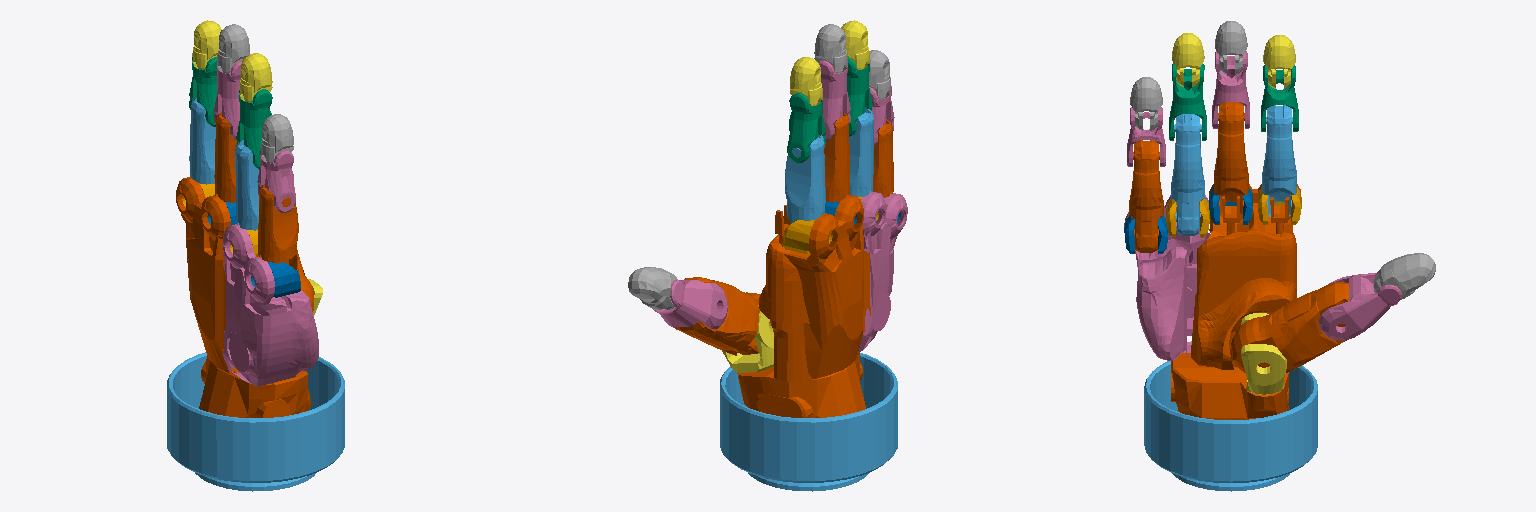
--- Render facts (derived) ---
Views: 3 orthographic renders of the robot side by side, from view 1: azimuth 30°, elevation 25°; view 2: azimuth 150°, elevation 25°; view 3: azimuth 270°, elevation 25°.
Model svh with 37 links and 36 joints (20 revolute, 16 fixed), rooted at base_link, posed all joints at 0.
Links seen in each view (by area): view 1: right_hand_base_link, right_hand_e1, right_hand_e2, right_hand_i, right_hand_l, right_hand_j, right_hand_k, right_hand_n, right_hand_m, right_hand_o, right_hand_q, right_hand_p (+4 smaller); view 2: right_hand_e1, right_hand_base_link, right_hand_e2, right_hand_a, right_hand_l, right_hand_b, right_hand_k, right_hand_j, right_hand_p, right_hand_c, right_hand_o, right_hand_z (+8 smaller); view 3: right_hand_e1, right_hand_base_link, right_hand_e2, right_hand_a, right_hand_j, right_hand_b, right_hand_i, right_hand_k, right_hand_l, right_hand_z, right_hand_c, right_hand_o (+11 smaller).
Boxes of the visible links, box(x1,y1,x2,y2) form: right_hand_base_link: box(167, 352, 344, 491); right_hand_e1: box(176, 177, 310, 417); right_hand_e2: box(222, 224, 318, 385); right_hand_i: box(258, 184, 299, 275); right_hand_l: box(189, 98, 215, 184); right_hand_j: box(235, 140, 258, 230); right_hand_k: box(214, 112, 236, 202); right_hand_n: box(236, 89, 272, 169); right_hand_m: box(257, 150, 295, 212); right_hand_o: box(214, 61, 241, 139); right_hand_q: box(261, 114, 293, 162); right_hand_p: box(189, 57, 217, 126); right_hand_e1: box(737, 195, 870, 417); right_hand_base_link: box(720, 353, 897, 491); right_hand_e2: box(858, 192, 907, 352); right_hand_a: box(675, 277, 760, 355); right_hand_l: box(785, 134, 825, 223); right_hand_b: box(653, 280, 727, 329); right_hand_k: box(824, 112, 849, 202); right_hand_j: box(849, 107, 873, 196); right_hand_p: box(787, 93, 825, 162); right_hand_c: box(628, 267, 677, 309); right_hand_o: box(818, 60, 850, 140); right_hand_z: box(722, 305, 773, 372); right_hand_e1: box(1171, 184, 1300, 419); right_hand_base_link: box(1144, 361, 1317, 491); right_hand_e2: box(1124, 195, 1209, 360); right_hand_a: box(1230, 282, 1349, 372); right_hand_j: box(1171, 114, 1204, 235); right_hand_b: box(1319, 270, 1401, 340); right_hand_i: box(1129, 140, 1163, 252); right_hand_k: box(1214, 102, 1248, 217); right_hand_l: box(1262, 105, 1296, 223); right_hand_z: box(1241, 313, 1286, 394); right_hand_c: box(1373, 253, 1435, 299); right_hand_o: box(1212, 51, 1249, 128).
Size in the robot's own frame: 0.0935 by 0.1609 by 0.2465 metres.
23 mesh visuals loaded from 23 distinct referenced files (23 OBJ).

robot.urdf — svh:
<?xml version="1.0" encoding="utf-8"?>
<robot name="svh">
  <link name="base_link"/>

  <joint name="root_joint" type="fixed">
    <parent link="base_link"/>
    <child link="right_hand_base_link"/>
    <origin xyz="0 0 0" rpy="0 0 -1.57"/>
  </joint>

  <link name="right_hand_base_link">
    <origin xyz="0 0 0" rpy="0 0 0"/>
    <visual>
      <origin xyz="0 0 -0.032"/>
      <geometry>
        <mesh filename="meshes/v2/base10.obj"/>
      </geometry>
    </visual>
    <collision>
      <origin xyz="0 0 -0.032"/>
      <geometry>
        <mesh filename="meshes/v2/base10.obj"/>
      </geometry>
    </collision>
    <inertial>
      <mass value="0.57743"/>
      <origin xyz="0.0 -2.3e-05 0.139371"/>
      <inertia ixx="0.04725" ixy="-0.0" ixz="-0.0" iyy="0.04717" iyz="0.0" izz="0.07606" />
    </inertial>
  </link>
  
  <link name="right_hand_d">
    <inertial>
      <mass value="0.01" />
      <origin xyz="0 0 0" />
      <inertia ixx="0.001" ixy="0.0" ixz="0.0" iyy="0.001" iyz="0.0" izz="0.001" />
    </inertial>
  </link>

  <link name="right_hand_h">
    <inertial>
      <mass value="0.01" />
      <origin xyz="0 0 0" />
      <inertia ixx="0.001" ixy="0.0" ixz="0.0" iyy="0.001" iyz="0.0" izz="0.001" />
    </inertial>
  </link>

  <link name="right_hand_d2">
    <inertial>
      <mass value="0.01" />
      <origin xyz="0 0 0" />
      <inertia ixx="0.001" ixy="0.0" ixz="0.0" iyy="0.001" iyz="0.0" izz="0.001" />
    </inertial>
  </link>

  <!-- LENGTH NOT FOUND IN DATASHEET! GUESSED!!! -->
  <link name="right_hand_e1">
    <visual>
      <origin rpy="0 0 0" xyz="0 0.01313 0"/>
      <geometry>
        <mesh filename="meshes/v2/h10.obj" scale="1 1 1"/>
      </geometry>
    </visual>
    <collision>
      <origin rpy="0 0 0" xyz="0 0.01313 0"/>
      <geometry>
        <mesh filename="meshes/v2/h10.obj" scale="1 1 1"/>
      </geometry>
    </collision>
    <inertial>
      <mass value="0.01" />
      <origin xyz="0 0 0" />
      <inertia ixx="0.001" ixy="0.0" ixz="0.0" iyy="0.001" iyz="0.0" izz="0.001" />
    </inertial>
  </link>

  <!-- LENGTH NOT FOUND IN DATASHEET! GUESSED!!! -->
  <link name="right_hand_e2">
    <visual>
      <origin xyz="-0.0007 0 -0.01002" />
      <geometry>
        <mesh filename="meshes/v2/h11.obj" scale="1 1 1"/>
      </geometry>
    </visual>
    <collision>
      <origin xyz="-0.0007 0 -0.01002" />
      <geometry>
        <mesh filename="meshes/v2/h11.obj" scale="1 1 1"/>
      </geometry>
    </collision>
    <inertial>
      <mass value="0.46184"/>
      <origin xyz="0.145071 -0.037868 0.323449"/>
      <inertia ixx="0.01908" ixy="-0.00121" ixz="-0.00011" iyy="0.01704" iyz="0.00277" izz="0.00862"/>
    </inertial>
  </link>

  <link name="right_hand_e3">
    <inertial>
      <mass value="0.01" />
      <origin xyz="0 0 0" />
      <inertia ixx="0.001" ixy="0.0" ixz="0.0" iyy="0.001" iyz="0.0" izz="0.001" />
    </inertial>
  </link>

  <link name="right_hand_e">
  </link>

  <link name="right_hand_e4">
    <inertial>
      <mass value="0.01" />
      <origin xyz="0 0 0" />
      <inertia ixx="0.001" ixy="0.0" ixz="0.0" iyy="0.001" iyz="0.0" izz="0.001" />
    </inertial>
  </link>

    <link name="right_hand_e5">
    <inertial>
      <mass value="0.01" />
      <origin xyz="0 0 0" />
      <inertia ixx="0.001" ixy="0.0" ixz="0.0" iyy="0.001" iyz="0.0" izz="0.001" />
    </inertial>
  </link>

  <!-- THUMB LINKS -->
  <link name="right_hand_z">
    <visual>
      <origin xyz="0 0 0.02442"/>
      <geometry>
        <mesh filename="meshes/v2/d10.obj" scale="1 1 1"/>
      </geometry>
    </visual>
    <collision>
      <origin xyz="0 0 0.02442"/>
      <geometry>
        <mesh filename="meshes/v2/d10.obj" scale="1 1 1"/>
      </geometry>
    </collision>
    <inertial>
      <mass value="0.0739"/>
      <origin xyz="0.0 0.002024 0.178636"/>
      <inertia ixx="0.00103" ixy="-0.0" ixz="-0.0" iyy="0.00165" iyz="4e-05" izz="0.00111"/>
    </inertial>
  </link>

  <link name="right_hand_virtual_a">
    <inertial>
      <mass value="0.01" />
      <origin xyz="0 0 0" />
      <inertia ixx="0.001" ixy="0.0" ixz="0.0" iyy="0.001" iyz="0.0" izz="0.001" />
    </inertial>
  </link>

  <link name="right_hand_a">
    <visual>
      <geometry>
        <mesh filename="meshes/v2/d11.obj" scale="1 1 1"/>
      </geometry>
    </visual>
    <collision>
      <geometry>
        <mesh filename="meshes/v2/d11.obj" scale="1 1 1"/>
      </geometry>
    </collision>
    <inertial>
      <mass value="0.41222"/>
      <origin xyz="0.240205 0.010733 0.00019"/>
      <inertia ixx="0.00413" ixy="0.00073" ixz="-0.0" iyy="0.01679" iyz="0.0" izz="0.01796"/>
    </inertial>
  </link>

  <link name="right_hand_b">
    <visual>
      <geometry>
        <mesh filename="meshes/v2/d12.obj" scale="1 1 1"/>
      </geometry>
    </visual>
    <collision>
      <geometry>
        <mesh filename="meshes/v2/d12.obj" scale="1 1 1"/>
      </geometry>
    </collision>
    <inertial>
      <mass value="0.08224"/>
      <origin xyz="0.123157 -0.008382 -2.7e-05"/>
      <inertia ixx="0.00089" ixy="5e-05" ixz="0.0" iyy="0.00139" iyz="0.0" izz="0.00103"/>
    </inertial>
  </link>

  <link name="right_hand_c">
    <visual>
      <geometry>
        <mesh filename="meshes/v2/d13.obj" scale="1 1 1"/>
      </geometry>
    </visual>
    <collision>
      <geometry>
        <mesh filename="meshes/v2/d13.obj" scale="1 1 1"/>
      </geometry>
    </collision>
    <inertial>
      <mass value="0.06198"/>
      <origin xyz="0.113729 0.01094 0.0"/>
      <inertia ixx="0.00025" ixy="-0.0" ixz="-0.0" iyy="0.00051" iyz="0.0" izz="0.00052"/>
    </inertial>
  </link>

  <!-- INDEX FINGER LINKS -->
  <link name="right_hand_virtual_l">
    <visual>
      <origin xyz="0 0 0.01321"/>
      <geometry>
        <mesh filename="meshes/v2/f10.obj"/>
      </geometry>
    </visual>
    <collision>
      <origin xyz="0 0 0.01321"/>
      <geometry>
        <mesh filename="meshes/v2/f10.obj"/>
      </geometry>
    </collision>

  <!-- <inertial>
    <mass value="0.02383"/>
    <origin xyz="0.003634 0.000206 -0.09885"/>
    <inertia ixx="0.00021" ixy="-0.0" ixz="-1e-05" iyy="0.00011" iyz="-0.0" izz="0.00019"/>
  </inertial>   -->
  <!-- Initial values make the inertia mass matrix not invertible as below floating point precision 
  for determinant, so we assume a default regularized version... -->
  <inertial>
    <mass value="0.02383" />
      <origin xyz="0.003634 0.000206 -0.09885"/>
    <inertia ixx="0.001" ixy="0.0" ixz="0.0" iyy="0.001" iyz="0.0" izz="0.001" />
  </inertial>
  </link>

  <link name="right_hand_l">
    <visual>
      <geometry>
        <mesh filename="meshes/v2/f11.obj"/>
      </geometry>
    </visual>
    <collision>
      <geometry>
        <mesh filename="meshes/v2/f11.obj"/>
      </geometry>
    </collision>
    <inertial>
      <mass value="0.13003"/>
      <origin xyz="0.261673 0.003521 0.0"/>
      <inertia ixx="0.00051" ixy="-3e-05" ixz="0.0" iyy="0.00335" iyz="-0.0" izz="0.00344"/>
    </inertial>
  </link>

  <link name="right_hand_p">
    <visual>
      <geometry>
        <mesh filename="meshes/v2/f12.obj"/>
      </geometry>
    </visual>
    <collision>
      <geometry>
        <mesh filename="meshes/v2/f12.obj"/>
      </geometry>
    </collision>
    <inertial>
      <mass value="0.03264"/>
      <origin xyz="0.1384 -0.004609 0.0"/>
      <inertia ixx="0.00016" ixy="-0.0" ixz="0.0" iyy="0.00031" iyz="-0.0" izz="0.00024"/>
    </inertial>    
  </link>

  <link name="right_hand_t">
    <visual>
      <geometry>
        <mesh filename="meshes/v2/f13.obj"/>
      </geometry>
    </visual>
    <collision>
      <geometry>
        <mesh filename="meshes/v2/f13.obj"/>
      </geometry>
    </collision>
    <!-- <inertial>
      <mass value="0.0324"/>
      <origin xyz="0.102924 0.000592 0.0"/>
      <inertia ixx="9e-05" ixy="-1e-05" ixz="-0.0" iyy="0.00017" iyz="0.0" izz="0.00017"/>
    </inertial>
  </inertial>  -->
  <!-- Initial values make the inertia mass matrix not invertible as below floating point precision 
  for determinant, so we assume a default regularized version... -->
  <inertial>
    <mass value="0.0324" />
    <origin xyz="0.102924 0.000592 0.0"/>
    <inertia ixx="0.001" ixy="0.0" ixz="0.0" iyy="0.001" iyz="0.0" izz="0.001" />
  </inertial>    
  </link>

  <!-- MIDDLE FINGER LINKS -->
  <link name="right_hand_virtual_k">
    <visual>
      <origin xyz="0 0 0.01321"/>
      <geometry>
        <mesh filename="meshes/v2/f20.obj"/>
      </geometry>
    </visual>
    <collision>
      <origin xyz="0 0 0.01321"/>
      <geometry>
        <mesh filename="meshes/v2/f20.obj"/>
      </geometry>
    </collision>    
    <!-- <inertial>
      <mass value="0.02377"/>
      <origin xyz="0.003357 -8e-06 -0.099643"/>
      <inertia ixx="0.00021" ixy="-0.0" ixz="-1e-05" iyy="0.00011" iyz="0.0" izz="0.00019"/>
    </inertial> -->
    <!-- Initial values make the inertia mass matrix not invertible as below floating point precision 
    for determinant, so we assume a default regularized version... -->
    <inertial>
      <mass value="0.02377" />
      <origin xyz="0.003357 -8e-06 -0.099643"/>
      <inertia ixx="0.001" ixy="0.0" ixz="0.0" iyy="0.001" iyz="0.0" izz="0.001" />
    </inertial>        
  </link>

  <link name="right_hand_k">
    <visual>
      <geometry>
        <mesh filename="meshes/v2/f21.obj"/>
      </geometry>
    </visual>
    <collision>
      <geometry>
        <mesh filename="meshes/v2/f21.obj"/>
      </geometry>
    </collision>
    <inertial>
      <mass value="0.13474"/>
      <origin xyz="0.271122 0.00413 0.0"/>
      <inertia ixx="0.00052" ixy="-3e-05" ixz="-0.0" iyy="0.0037" iyz="-0.0" izz="0.0038"/>
    </inertial>
  </link>

  <link name="right_hand_o">
    <visual>
      <geometry>
        <mesh filename="meshes/v2/f22.obj"/>
      </geometry>
    </visual>
    <collision>
      <geometry>
        <mesh filename="meshes/v2/f22.obj"/>
      </geometry>
    </collision>    
    <inertial>
      <mass value="0.0422"/>
      <origin xyz="0.16683 -0.003774 0.0"/>
      <inertia ixx="0.0002" ixy="0.0" ixz="-0.0" iyy="0.00047" iyz="0.0" izz="0.0004"/>
    </inertial>   
  </link>

  <link name="right_hand_s">
    <visual>
      <geometry>
        <mesh filename="meshes/v2/f23.obj"/>
      </geometry>
    </visual>
    <collision>
      <geometry>
        <mesh filename="meshes/v2/f23.obj"/>
      </geometry>
    </collision>    
    <!-- <inertial>
      <mass value="0.03239"/>
      <origin xyz="0.102794 0.00042 0.0"/>
      <inertia ixx="9e-05" ixy="-1e-05" ixz="0.0" iyy="0.00017" iyz="0.0" izz="0.00017"/>
    </inertial>  -->
    <!-- Initial values make the inertia mass matrix not invertible as below floating point precision 
    for determinant, so we assume a default regularized version... -->
    <inertial>
      <mass value="0.03239" />
      <origin xyz="0.102794 0.00042 0.0"/>
      <inertia ixx="0.001" ixy="0.0" ixz="0.0" iyy="0.001" iyz="0.0" izz="0.001" />
    </inertial>      
  </link>

  <!-- RING FINGER LINKS -->
  <link name="right_hand_virtual_j">
    <visual>
      <origin xyz="0 0 -0.01321"/>
      <geometry>
        <mesh filename="meshes/v2/f30.obj"/>
      </geometry>
    </visual>
    <collision>
      <origin xyz="0 0 -0.01321"/>
      <geometry>
        <mesh filename="meshes/v2/f30.obj"/>
      </geometry>
    </collision>    
    <!-- <inertial>
      <mass value="0.02377"/>
      <origin xyz="0.003805 0.000386 0.100079"/>
      <inertia ixx="0.00021" ixy="0.0" ixz="1e-05" iyy="0.00011" iyz="-0.0" izz="0.00019"/>
    </inertial> -->
    <!-- Initial values make the inertia mass matrix not invertible as below floating point precision 
    for determinant, so we assume a default regularized version... -->
    <inertial>
      <mass value="0.02377" />
      <origin xyz="0.003805 0.000386 0.100079"/>
      <inertia ixx="0.001" ixy="0.0" ixz="0.0" iyy="0.001" iyz="0.0" izz="0.001" />
    </inertial>         
  </link>

  <link name="right_hand_j">
    <visual>
      <geometry>
        <mesh filename="meshes/v2/f31.obj"/>
      </geometry>
    </visual>
    <collision>
      <geometry>
        <mesh filename="meshes/v2/f31.obj"/>
      </geometry>
    </collision>    
    <inertial>
      <mass value="0.1377"/>
      <origin xyz="0.258283 -0.00154 0.0"/>
      <inertia ixx="0.00055" ixy="0.00018" ixz="-0.0" iyy="0.00411" iyz="0.0" izz="0.00426"/>
    </inertial>    
  </link>

  <link name="right_hand_n">
    <visual>
      <geometry>
        <mesh filename="meshes/v2/f32.obj"/>
      </geometry>
    </visual>
    <collision>
      <geometry>
        <mesh filename="meshes/v2/f32.obj"/>
      </geometry>
    </collision>
    <inertial>
      <mass value="0.04207"/>
      <origin xyz="0.166851 -0.00362 0.0"/>
      <inertia ixx="0.00019" ixy="0.0" ixz="-0.0" iyy="0.00047" iyz="0.0" izz="0.0004"/>
    </inertial>
  </link>

  <link name="right_hand_r">
    <visual>
      <geometry>
        <mesh filename="meshes/v2/f33.obj"/>
      </geometry>
    </visual>
    <collision>
      <geometry>
        <mesh filename="meshes/v2/f33.obj"/>
      </geometry>
    </collision>
    <!-- <inertial>
      <mass value="0.03229"/>
      <origin xyz="0.102676 0.000301 0.0"/>
      <inertia ixx="9e-05" ixy="-1e-05" ixz="0.0" iyy="0.00017" iyz="-0.0" izz="0.00017"/>
    </inertial> -->
    <!-- Initial values make the inertia mass matrix not invertible as below floating point precision 
    for determinant, so we assume a default regularized version... -->
    <inertial>
      <mass value="0.03229"/>
      <origin xyz="0.102676 0.000301 0.0"/>
      <inertia ixx="0.001" ixy="0.0" ixz="0.0" iyy="0.001" iyz="0.0" izz="0.001" />
    </inertial>    
  </link>

  <!-- LITTLE FINGER LINKS -->
  <link name="right_hand_virtual_i">
    <visual>
      <origin xyz="0 0 -0.01321"/>
      <geometry>
        <mesh filename="meshes/v2/f40.obj"/>
      </geometry>
    </visual>
    <collision>
      <origin xyz="0 0 -0.01321"/>
      <geometry>
        <mesh filename="meshes/v2/f40.obj"/>
      </geometry>
    </collision>
    <!-- <inertial>
      <mass value="0.02377"/>
      <origin xyz="0.003653 4.4e-05 0.100085"/>
      <inertia ixx="0.00021" ixy="0.0" ixz="1e-05" iyy="0.00011" iyz="-0.0" izz="0.00019"/>
    </inertial> -->
    <!-- Initial values make the inertia mass matrix not invertible as below floating point precision 
    for determinant, so we assume a default regularized version... -->
    <inertial>
      <mass value="0.02377" />
      <origin xyz="0.003653 4.4e-05 0.100085"/>
      <inertia ixx="0.001" ixy="0.0" ixz="0.0" iyy="0.001" iyz="0.0" izz="0.001" />
    </inertial>
  </link>

  <link name="right_hand_i">
    <visual>
      <geometry>
        <mesh filename="meshes/v2/f41.obj"/>
      </geometry>
    </visual>
    <collision>
      <geometry>
        <mesh filename="meshes/v2/f41.obj"/>
      </geometry>
    </collision>
    <inertial>
      <mass value="0.12544"/>
      <origin xyz="0.232293 0.00622 0.0"/>
      <inertia ixx="0.00049" ixy="6e-05" ixz="-0.0" iyy="0.00316" iyz="0.0" izz="0.00328"/>
    </inertial>    
  </link>

  <link name="right_hand_m">
    <visual>
      <geometry>
        <mesh filename="meshes/v2/f42.obj"/>
      </geometry>
    </visual>
    <collision>
      <geometry>
        <mesh filename="meshes/v2/f42.obj"/>
      </geometry>
    </collision>
    <!-- <inertial>
      <mass value="0.02488"/>
      <origin xyz="0.119665 -0.009328 0.0"/>
      <inertia ixx="0.00013" ixy="-0.0" ixz="-0.0" iyy="0.00023" iyz="0.0" izz="0.00016"/>
    </inertial> -->
    <!-- Initial values make the inertia mass matrix not invertible as below floating point precision 
    for determinant, so we assume a default regularized version... -->
    <inertial>
      <mass value="0.02488" />
      <origin xyz="0.119665 -0.009328 0.0"/>
      <inertia ixx="0.001" ixy="0.0" ixz="0.0" iyy="0.001" iyz="0.0" izz="0.001" />
    </inertial>    
  </link>

  <link name="right_hand_q">
    <visual>
      <geometry>
        <mesh filename="meshes/v2/f43.obj"/>
      </geometry>
    </visual>
    <collision>
      <geometry>
        <mesh filename="meshes/v2/f43.obj"/>
      </geometry>
    </collision>
    <!-- <inertial>
      <mass value="0.03234"/>
      <origin xyz="0.102896 0.000307 0.0"/>
      <inertia ixx="9e-05" ixy="-1e-05" ixz="-0.0" iyy="0.00017" iyz="0.0" izz="0.00017"/>
    </inertial> -->
    <!-- Initial values make the inertia mass matrix not invertible as below floating point precision 
    for determinant, so we assume a default regularized version... -->
    <inertial>
      <mass value="0.03234" />
      <origin xyz="0.102896 0.000307 0.0"/>
      <inertia ixx="0.001" ixy="0.0" ixz="0.0" iyy="0.001" iyz="0.0" izz="0.001" />
    </inertial>        
  </link>

  <joint name="right_hand_Thumb_Flexion" type="revolute">
    <parent link="right_hand_virtual_a"/>
    <child link="right_hand_a"/>
    <limit effort="1000.0" lower="0.0" upper="0.9704" velocity="1"/>
    <origin xyz="0 0 0" rpy="0 0 -0.9704" />
    <axis xyz="0 0 1"/>
  </joint>

  <joint name="right_hand_Thumb_Helper" type="fixed">
    <parent link="right_hand_z" />
    <child link="right_hand_virtual_a" />
    <origin xyz="0 0 0.04596" rpy="0 -1.5707 3.1416" />
  </joint>

  <!-- BASE_LINE JOINTS -->
  <joint name="right_hand_Thumb_Opposition" type="revolute">
    <parent link="right_hand_e1"/>
    <child link="right_hand_z"/>
    <limit effort="1000.0" lower="0.0" upper="0.9879" velocity="1"/>
    <origin xyz="-0.01690 0.02626 0" rpy="0 0.2618 1.571" />
    <axis xyz="0 0 -1"/>
  </joint>

  <!-- JOINT NOT FOR BASE_LINE. BUT WRITTEN DOWN HERE FOR BETTER UX -->
  
  <joint name="right_hand_f1" type="fixed">
    <parent link="right_hand_e1" />
    <child link="right_hand_d" />
    <origin xyz="0 0 0" rpy="0 0 0" />
  </joint>

  <joint name="right_hand_f2" type="fixed">
    <parent link="right_hand_d" />
    <child link="right_hand_h" />
    <origin xyz="0 0 0" rpy="0 0 0" />
  </joint>

  <joint name="right_hand_f3" type="fixed">
    <parent link="right_hand_h" />
    <child link="right_hand_d2" />
    <origin xyz="0 0 0" rpy="0 0 0" />
  </joint>

  <joint name="right_hand_f4" type="fixed">
    <parent link="right_hand_base_link"/>
    <child link="right_hand_e1"/>
    <origin xyz="0 -0.01313 0" rpy="0 0 0" />
  </joint>

  <joint name="right_hand_j5" type="revolute">
    <parent link="right_hand_e1"/>
    <child link="right_hand_e2"/>
    <limit effort="1000.0" lower="0.0" upper="0.98786" velocity="1"/>
    <origin xyz="0.0184 0.006 0.0375" rpy="0 0 0" />
    <axis xyz="0 0 1"/>
    <mimic joint="right_hand_Thumb_Opposition" multiplier="1" offset="0"/>
  </joint>

  <joint name="right_hand_f5" type="fixed">
    <parent link="right_hand_e2" />
    <child link="right_hand_e3" />
    <origin xyz="0 -0.0060 0" rpy="0 0 0" />
  </joint>

  <joint name="right_hand_f6" type="fixed">
    <parent link="right_hand_e3" />
    <child link="right_hand_e" />
    <origin xyz="0 0 0" rpy="0 0 0" />
  </joint>

  <joint name="right_hand_f7" type="fixed">
    <parent link="right_hand_e" />
    <child link="right_hand_e4" />
    <origin xyz="0 0 0" rpy="0 0 0" />
  </joint>

  <joint name="right_hand_f8" type="fixed">
    <parent link="right_hand_e" />
    <child link="right_hand_e5" />
    <origin xyz="0 0 0" rpy="0 0 0" />
  </joint>
  
  <!-- THUMB JOINTS -->
  <joint name="right_hand_j3" type="revolute">
    <parent link="right_hand_a"/>
    <child link="right_hand_b"/>
    <limit effort="1000.0" lower="0.0" upper="0.98506" velocity="1"/>
    <origin xyz="0.0485 0 0" rpy="0 0 0" />
    <axis xyz="0 0 1"/>
    <mimic joint="right_hand_Thumb_Flexion" multiplier="1.01511" offset="0"/>
  </joint>

  <joint name="right_hand_j4" type="revolute">
    <parent link="right_hand_b"/>
    <child link="right_hand_c"/>
    <limit effort="1000.0" lower="0.0" upper="1.406" velocity="1"/>
    <origin xyz="0.030 0 0" rpy="0 0 0" />
    <axis xyz="0 0 1"/>
    <mimic joint="right_hand_Thumb_Flexion" multiplier="1.44889" offset="0"/>
  </joint>

  <!-- INDEX FINGER JOINTS -->
  <joint name="right_hand_Index_Finger_Distal" type="revolute">
    <parent link="right_hand_l"/>
    <child link="right_hand_p"/>
    <limit effort="1000.0" lower="0" upper="1.334" velocity="1"/>
    <origin xyz="0.04804 0 0" rpy="0 0 0" />
    <axis xyz="0 0 1"/>
  </joint>

  <joint name="right_hand_Index_Finger_Proximal" type="revolute">
    <parent link="right_hand_virtual_l"/>
    <child link="right_hand_l"/>
    <limit effort="1000.0" lower="0.0" upper="0.79849" velocity="1"/>
    <origin xyz="0 0 0" rpy="-1.5707 0 0" />
    <axis xyz="0 0 1"/>
  </joint>

  <!-- JOINT Finger_Spread in BASE_LINE section for better UX -->
  <joint name="right_hand_j14" type="revolute">
    <parent link="right_hand_p"/>
    <child link="right_hand_t"/>
    <limit effort="1000.0" lower="0" upper="1.394" velocity="1"/>
    <origin xyz="0.026 0 0" rpy="0 0 0" />
    <axis xyz="0 0 1"/>
    <mimic joint="right_hand_Index_Finger_Distal" multiplier="1.0450" offset="0"/>
  </joint>

  <!-- MIDDLE FINGER JOINTS -->
  <joint name="right_hand_Middle_Finger_Proximal" type="revolute">
    <parent link="right_hand_virtual_k"/>
    <child link="right_hand_k"/>
    <limit effort="1000.0" lower="0.0" upper="0.79849" velocity="1"/>
    <origin xyz="0 0 0" rpy="-1.5707 0 0" />
    <axis xyz="0 0 1"/>
  </joint>

  <joint name="right_hand_Middle_Finger_Distal" type="revolute">
    <parent link="right_hand_k"/>
    <child link="right_hand_o"/>
    <limit effort="1000.0" lower="0" upper="1.334" velocity="1"/>
    <origin xyz="0.05004 0 0" rpy="0 0 0" />
    <axis xyz="0 0 1"/>
  </joint>

  <joint name="right_hand_j15" type="revolute">
    <parent link="right_hand_o"/>
    <child link="right_hand_s"/>
    <limit effort="1000.0" lower="0" upper="1.334" velocity="1"/>
    <origin xyz="0.032 0 0" rpy="0 0 0" />
    <axis xyz="0 0 1"/>
    <mimic joint="right_hand_Middle_Finger_Distal" multiplier="1.0454" offset="0"/>
  </joint>

  <!-- RING FINGER JOINTS -->
  <joint name="right_hand_Ring_Finger" type="revolute">
    <parent link="right_hand_virtual_j"/>
    <child link="right_hand_j"/>
    <limit effort="1000.0" lower="0.0" upper="0.98175" velocity="1"/>
    <origin xyz="0 0 0" rpy="1.5707 0 0" />
    <axis xyz="0 0 1"/>
  </joint>

  <joint name="right_hand_j12" type="revolute">
    <parent link="right_hand_j"/>
    <child link="right_hand_n"/>
    <limit effort="1000.0" lower="0" upper="1.334" velocity="1"/>
    <origin xyz="0.05004 0 0" rpy="0 0 0" />
    <axis xyz="0 0 1"/>
    <mimic joint="right_hand_Ring_Finger" multiplier="1.3588" offset="0"/>
  </joint>

  <joint name="right_hand_j16" type="revolute">
    <parent link="right_hand_n"/>
    <child link="right_hand_r"/>
    <limit effort="1000.0" lower="0" upper="1.395" velocity="1"/>
    <origin xyz="0.032 0 0" rpy="0 0 0" />
    <axis xyz="0 0 1"/>
    <mimic joint="right_hand_Ring_Finger" multiplier="1.42093" offset="0"/>
  </joint>

  <!-- PINKY JOINTS -->
  <joint name="right_hand_Pinky" type="revolute">
    <parent link="right_hand_virtual_i"/>
    <child link="right_hand_i"/>
    <limit effort="1000.0" lower="0.0" upper="0.98175" velocity="1"/>
    <origin xyz="0 0 0" rpy="1.5707 0 0" />
    <axis xyz="0 0 1"/>
  </joint>

  <joint name="right_hand_j13" type="revolute">
    <parent link="right_hand_i"/>
    <child link="right_hand_m"/>
    <limit effort="1000.0" lower="0" upper="1.334" velocity="1"/>
    <origin xyz="0.04454 0 0" rpy="0 0 0" />
    <axis xyz="0 0 1"/>
    <mimic joint="right_hand_Pinky" multiplier="1.35880" offset="0"/>
  </joint>

  <joint name="right_hand_j17" type="revolute">
    <parent link="right_hand_m"/>
    <child link="right_hand_q"/>
    <limit effort="1000.0" lower="0" upper="1.3971" velocity="1"/>
    <origin xyz="0.022 0 0" rpy="0 0 0" />
    <axis xyz="0 0 1"/>
    <mimic joint="right_hand_Pinky" multiplier="1.42307" offset="0"/>
  </joint>

  <joint name="right_hand_index_spread" type="revolute">
    <parent link="right_hand_d2"/>
    <child link="right_hand_virtual_l"/>
    <limit effort="1000.0" lower="0.0" upper="0.28833" velocity="1"/>
    <origin xyz="-0.025 0 0.110" rpy="0 -1.5707 1.5707" />
    <axis xyz="0 0 1"/>
    <mimic joint="right_hand_Finger_Spread" multiplier="0.5" offset="0"/>
  </joint>

  <joint name="right_hand_middle_spread_dummy" type="fixed">
    <parent link="right_hand_d"/>
    <child link="right_hand_virtual_k"/>
    <origin xyz="0 0 0.110" rpy="0 -1.5707 1.5707" />
  </joint>

  <joint name="right_hand_ring_spread" type="revolute">
    <parent link="right_hand_e5"/>
    <child link="right_hand_virtual_j"/>
    <limit effort="1000.0" lower="0.0" upper="0.28833" velocity="1"/>
    <origin xyz="0.003855 0 0.0655" rpy="-1.5707 -1.5707 0" />
    <axis xyz="0 0 1"/>
    <mimic joint="right_hand_Finger_Spread" multiplier="0.5" offset="0"/>
  </joint>

  <joint name="right_hand_Finger_Spread" type="revolute">
    <parent link="right_hand_e4"/>
    <child link="right_hand_virtual_i"/>
    <limit effort="1000.0" lower="0.0" upper="0.5829" velocity="1"/>
    <origin xyz="0.025355 0 0.056" rpy="-1.5707 -1.5707 0" />
    <axis xyz="0 0 1"/>
  </joint>

  <link name="thtip"/>
  <link name="fftip"/>
  <link name="mftip"/>
  <link name="rftip"/>
  <link name="lftip"/>
  <joint name="thtip_joint" type="fixed">
    <parent link="right_hand_c"/>
    <child link="thtip"/>
    <origin rpy="0.00000 -0.00000 0.00000" xyz="0.0275 0.000 0.000"/>
  </joint>
  <joint name="fftip_joint" type="fixed">
    <parent link="right_hand_t"/>
    <child link="fftip"/>
    <origin rpy="0.00000 -0.00000 0.00000" xyz="0.014 0.000 0.000"/>
  </joint>
  <joint name="mftip_joint" type="fixed">
    <parent link="right_hand_s"/>
    <child link="mftip"/>
    <origin rpy="0.00000 -0.00000 0.00000" xyz="0.014 0.000 0.000"/>
  </joint>
  <joint name="rftip_joint" type="fixed">
    <parent link="right_hand_r"/>
    <child link="rftip"/>
    <origin rpy="0.00000 -0.00000 0.00000" xyz="0.014 0.000 0.000"/>
  </joint>
  <joint name="lftip_joint" type="fixed">
    <parent link="right_hand_q"/>
    <child link="lftip"/>
    <origin rpy="0.00000 -0.00000 0.00000" xyz="0.014 0.000 0.000"/>
  </joint>
</robot>
